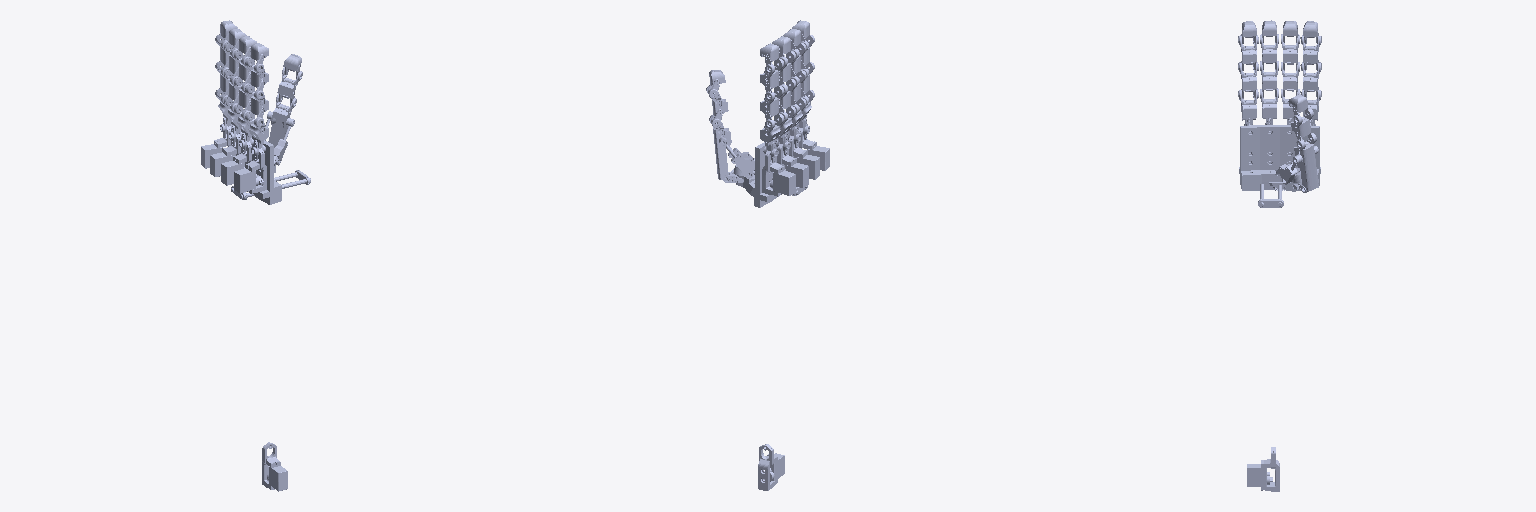
--- Facts derived from the render (not from the file) ---
The picture shows the robot from 3 angles, left to right: view 1: azimuth 30°, elevation 25°; view 2: azimuth 150°, elevation 25°; view 3: azimuth 270°, elevation 25°; orthographic projection.
Model roborscht_v3 with 22 links and 21 joints (21 revolute), rooted at base_link, posed every joint at zero.
Links seen in each view (by area): view 1: wrist_link, base_link, thumb_metacarpal_link, little_metacarpal_link; view 2: wrist_link, base_link, thumb_metacarpal_link, thumb_aa_link, index_metacarpal_link; view 3: wrist_link, thumb_metacarpal_link, base_link.
Boxes of the visible links, x1,y1,x2,y2 form: wrist_link: (201, 126, 310, 204); base_link: (262, 442, 287, 491); thumb_metacarpal_link: (265, 93, 296, 147); little_metacarpal_link: (245, 112, 268, 160); wrist_link: (729, 128, 829, 207); base_link: (758, 444, 784, 490); thumb_metacarpal_link: (709, 115, 736, 179); thumb_aa_link: (723, 148, 754, 182); index_metacarpal_link: (760, 113, 784, 162); wrist_link: (1239, 125, 1320, 207); thumb_metacarpal_link: (1291, 133, 1318, 191); base_link: (1247, 447, 1279, 491).
Bounding box of the posed robot: 0.1223 × 0.0937 × 0.5636 m (x, y, z).
22 mesh visuals loaded from 22 distinct referenced files (22 binary STL).

URDF robot description (roborscht_v3):
<?xml version="1.0" encoding="utf-8"?>
<!-- This URDF was automatically created by SolidWorks to URDF Exporter! Originally created by Stephen Brawner ([email redacted]) 
     Commit Version: 1.6.0-4-g7f85cfe  Build Version: 1.6.7995.38578
     For more information, please see http://wiki.ros.org/sw_urdf_exporter -->
<robot
  name="roborscht_v3">
  <link
    name="base_link">
    <inertial>
      <origin
        xyz="-0.0092098 -0.0024913 0.16567"
        rpy="0 0 0" />
      <mass
        value="1.6006" />
      <inertia
        ixx="0.0027075"
        ixy="-3.1202E-06"
        ixz="-1.8284E-05"
        iyy="0.0027143"
        iyz="-5.3343E-06"
        izz="0.0025317" />
    </inertial>
    <visual>
      <origin
        xyz="0 0 0"
        rpy="0 0 0" />
      <geometry>
        <mesh
          filename="package://roborscht_description/meshes/roborscht_v3/base_link.STL" />
      </geometry>
      <material
        name="">
        <color
          rgba="0.792156862745098 0.819607843137255 0.933333333333333 1" />
      </material>
    </visual>
    <collision>
      <origin
        xyz="0 0 0"
        rpy="0 0 0" />
      <geometry>
        <mesh
          filename="package://roborscht_description/meshes/roborscht_v3/base_link.STL" />
      </geometry>
    </collision>
  </link>
  <link
    name="wrist_link">
    <inertial>
      <origin
        xyz="-0.02602 0.00032153 0.022513"
        rpy="0 0 0" />
      <mass
        value="0.11966" />
      <inertia
        ixx="6.8158E-05"
        ixy="-2.3104E-06"
        ixz="2.8578E-06"
        iyy="3.4394E-05"
        iyz="1.7479E-06"
        izz="5.247E-05" />
    </inertial>
    <visual>
      <origin
        xyz="0 0 0"
        rpy="0 0 0" />
      <geometry>
        <mesh
          filename="package://roborscht_description/meshes/roborscht_v3/wrist_link.STL" />
      </geometry>
      <material
        name="">
        <color
          rgba="0.792156862745098 0.819607843137255 0.933333333333333 1" />
      </material>
    </visual>
    <collision>
      <origin
        xyz="0 0 0"
        rpy="0 0 0" />
      <geometry>
        <mesh
          filename="package://roborscht_description/meshes/roborscht_v3/wrist_link.STL" />
      </geometry>
    </collision>
  </link>
  <joint
    name="wrist_joint"
    type="revolute">
    <origin
      xyz="2.8857E-05 0 0.35884"
      rpy="0 0 1.4683E-05" />
    <parent
      link="base_link" />
    <child
      link="wrist_link" />
    <axis
      xyz="1 0 0" />
    <limit
      lower="-0.523"
      upper="0.523"
      effort="0"
      velocity="0" />
  </joint>
  <link
    name="thumb_aa_link">
    <inertial>
      <origin
        xyz="0.0024104 -2.5508E-09 0.01316"
        rpy="0 0 0" />
      <mass
        value="0.0089864" />
      <inertia
        ixx="3.115E-07"
        ixy="-1.6762E-13"
        ixz="9.1429E-08"
        iyy="5.1912E-07"
        iyz="2.4887E-14"
        izz="4.0938E-07" />
    </inertial>
    <visual>
      <origin
        xyz="0 0 0"
        rpy="0 0 0" />
      <geometry>
        <mesh
          filename="package://roborscht_description/meshes/roborscht_v3/thumb_aa_link.STL" />
      </geometry>
      <material
        name="">
        <color
          rgba="0.792156862745098 0.819607843137255 0.933333333333333 1" />
      </material>
    </visual>
    <collision>
      <origin
        xyz="0 0 0"
        rpy="0 0 0" />
      <geometry>
        <mesh
          filename="package://roborscht_description/meshes/roborscht_v3/thumb_aa_link.STL" />
      </geometry>
    </collision>
  </link>
  <joint
    name="thumb_aa_joint"
    type="revolute">
    <origin
      xyz="0.015116 0.023473 0.012303"
      rpy="-0.18412 0.02686 -2.4748" />
    <parent
      link="wrist_link" />
    <child
      link="thumb_aa_link" />
    <axis
      xyz="-0.15925 0 -0.98724" />
    <limit
      lower="-0.785"
      upper="0.785"
      effort="0"
      velocity="0" />
  </joint>
  <link
    name="thumb_metacarpal_link">
    <inertial>
      <origin
        xyz="-0.001809 -1.0753E-06 0.033444"
        rpy="0 0 0" />
      <mass
        value="0.012247" />
      <inertia
        ixx="2.8198E-06"
        ixy="-2.137E-11"
        ixz="-1.0994E-07"
        iyy="2.9298E-06"
        iyz="3.7583E-10"
        izz="2.3022E-07" />
    </inertial>
    <visual>
      <origin
        xyz="0 0 0"
        rpy="0 0 0" />
      <geometry>
        <mesh
          filename="package://roborscht_description/meshes/roborscht_v3/thumb_metacarpal_link.STL" />
      </geometry>
      <material
        name="">
        <color
          rgba="0.792156862745098 0.819607843137255 0.933333333333333 1" />
      </material>
    </visual>
    <collision>
      <origin
        xyz="0 0 0"
        rpy="0 0 0" />
      <geometry>
        <mesh
          filename="package://roborscht_description/meshes/roborscht_v3/thumb_metacarpal_link.STL" />
      </geometry>
    </collision>
  </link>
  <joint
    name="thumb_metacarpal_joint"
    type="revolute">
    <origin
      xyz="-0.0162894409397336 0 0.00262756805263537"
      rpy="0 -0.0973913085731766 0" />
    <parent
      link="thumb_aa_link" />
    <child
      link="thumb_metacarpal_link" />
    <axis
      xyz="0 -1 0" />
    <limit
      lower="0"
      upper="0.5236"
      effort="0"
      velocity="0" />
  </joint>
  <link
    name="thumb_proximal_link">
    <inertial>
      <origin
        xyz="0.0027688 6.5584E-06 0.018506"
        rpy="0 0 0" />
      <mass
        value="0.0045745" />
      <inertia
        ixx="1.2754E-07"
        ixy="-3.4528E-11"
        ixz="6.7634E-09"
        iyy="1.8349E-07"
        iyz="2.3861E-10"
        izz="9.0084E-08" />
    </inertial>
    <visual>
      <origin
        xyz="0 0 0"
        rpy="0 0 0" />
      <geometry>
        <mesh
          filename="package://roborscht_description/meshes/roborscht_v3/thumb_proximal_link.STL" />
      </geometry>
      <material
        name="">
        <color
          rgba="0.792156862745098 0.819607843137255 0.933333333333333 1" />
      </material>
    </visual>
    <collision>
      <origin
        xyz="0 0 0"
        rpy="0 0 0" />
      <geometry>
        <mesh
          filename="package://roborscht_description/meshes/roborscht_v3/thumb_proximal_link.STL" />
      </geometry>
    </collision>
  </link>
  <joint
    name="thumb_proximal_joint"
    type="revolute">
    <origin
      xyz="-0.005234 0 0.064786"
      rpy="0 0.097391 0" />
    <parent
      link="thumb_metacarpal_link" />
    <child
      link="thumb_proximal_link" />
    <axis
      xyz="0 -1 0" />
    <limit
      lower="0"
      upper="0.5236"
      effort="0"
      velocity="0" />
    <mimic
      joint="thumb_metacarpal_joint"
      multiplier="1"
      offset="0" />
  </joint>
  <link
    name="thumb_distal_link">
    <inertial>
      <origin
        xyz="0.00526492292422796 -0.000119362522957578 0.0141234180647685"
        rpy="0 0 0" />
      <mass
        value="0.00324557150318146" />
      <inertia
        ixx="7.00047560328177E-08"
        ixy="7.7403312388684E-10"
        ixz="-7.47829519105683E-09"
        iyy="1.10270578363082E-07"
        iyz="-3.87024849478456E-10"
        izz="6.62418155445074E-08" />
    </inertial>
    <visual>
      <origin
        xyz="0 0 0"
        rpy="0 0 0" />
      <geometry>
        <mesh
          filename="package://roborscht_description/meshes/roborscht_v3/thumb_distal_link.STL" />
      </geometry>
      <material
        name="">
        <color
          rgba="0.792156862745098 0.819607843137255 0.933333333333333 1" />
      </material>
    </visual>
    <collision>
      <origin
        xyz="0 0 0"
        rpy="0 0 0" />
      <geometry>
        <mesh
          filename="package://roborscht_description/meshes/roborscht_v3/thumb_distal_link.STL" />
      </geometry>
    </collision>
  </link>
  <joint
    name="thumb_distal_joint"
    type="revolute">
    <origin
      xyz="-0.00330333800875904 0 0.0338108946215734"
      rpy="0 -0.097391308573176 0" />
    <parent
      link="thumb_proximal_link" />
    <child
      link="thumb_distal_link" />
    <axis
      xyz="0 -1 0" />
    <limit
      lower="0"
      upper="0.5236"
      effort="0"
      velocity="0" />
    <mimic
      joint="thumb_proximal_joint"
      multiplier="1"
      offset="0" />
  </joint>
  <link
    name="index_metacarpal_link">
    <inertial>
      <origin
        xyz="-0.000165088380344569 -2.55527997797267E-06 0.0200961413845328"
        rpy="0 0 0" />
      <mass
        value="0.00537510190726737" />
      <inertia
        ixx="2.05816406436137E-07"
        ixy="-2.35473640198192E-11"
        ixz="2.20514713115928E-08"
        iyy="2.53059740283561E-07"
        iyz="1.87669861493622E-10"
        izz="1.08190461856831E-07" />
    </inertial>
    <visual>
      <origin
        xyz="0 0 0"
        rpy="0 0 0" />
      <geometry>
        <mesh
          filename="package://roborscht_description/meshes/roborscht_v3/index_metacarpal_link.STL" />
      </geometry>
      <material
        name="">
        <color
          rgba="0.792156862745098 0.819607843137255 0.933333333333333 1" />
      </material>
    </visual>
    <collision>
      <origin
        xyz="0 0 0"
        rpy="0 0 0" />
      <geometry>
        <mesh
          filename="package://roborscht_description/meshes/roborscht_v3/index_metacarpal_link.STL" />
      </geometry>
    </collision>
  </link>
  <joint
    name="index_metacarpal_joint"
    type="revolute">
    <origin
      xyz="-0.0304679964628173 0.0346470579448334 0.0605435263258592"
      rpy="0 0 -0.130899693900408" />
    <parent
      link="wrist_link" />
    <child
      link="index_metacarpal_link" />
    <axis
      xyz="1 0 0" />
    <limit
      lower="-0.262"
      upper="0.262"
      effort="0"
      velocity="0" />
  </joint>
  <link
    name="index_proximal_link">
    <inertial>
      <origin
        xyz="0.00455519894544859 6.55879239436219E-06 0.0181492193632317"
        rpy="0 0 0" />
      <mass
        value="0.00457448161152818" />
      <inertia
        ixx="1.28490373622756E-07"
        ixy="-1.11577307710177E-11"
        ixz="3.01110888332889E-09"
        iyy="1.83487393021689E-07"
        iyz="2.40841956953645E-10"
        izz="8.91294617769703E-08" />
    </inertial>
    <visual>
      <origin
        xyz="0 0 0"
        rpy="0 0 0" />
      <geometry>
        <mesh
          filename="package://roborscht_description/meshes/roborscht_v3/index_proximal_link.STL" />
      </geometry>
      <material
        name="">
        <color
          rgba="0.792156862745098 0.819607843137255 0.933333333333333 1" />
      </material>
    </visual>
    <collision>
      <origin
        xyz="0 0 0"
        rpy="0 0 0" />
      <geometry>
        <mesh
          filename="package://roborscht_description/meshes/roborscht_v3/index_proximal_link.STL" />
      </geometry>
    </collision>
  </link>
  <joint
    name="index_proximal_joint"
    type="revolute">
    <origin
      xyz="-0.00523404007282113 0 0.0387859400469229"
      rpy="0 0 0" />
    <parent
      link="index_metacarpal_link" />
    <child
      link="index_proximal_link" />
    <axis
      xyz="0 -1 0" />
    <limit
      lower="0"
      upper="0.5236"
      effort="0"
      velocity="0" />
  </joint>
  <link
    name="index_middle_link">
    <inertial>
      <origin
        xyz="0.00447480519242222 6.83998454037438E-06 0.0177672192872552"
        rpy="0 0 0" />
      <mass
        value="0.00438641334589753" />
      <inertia
        ixx="1.17446272298938E-07"
        ixy="-1.1104618693292E-11"
        ixz="3.01216827334828E-09"
        iyy="1.69859418492487E-07"
        iyz="2.30779224024243E-10"
        izz="8.46514881086031E-08" />
    </inertial>
    <visual>
      <origin
        xyz="0 0 0"
        rpy="0 0 0" />
      <geometry>
        <mesh
          filename="package://roborscht_description/meshes/roborscht_v3/index_middle_link.STL" />
      </geometry>
      <material
        name="">
        <color
          rgba="0.792156862745098 0.819607843137255 0.933333333333333 1" />
      </material>
    </visual>
    <collision>
      <origin
        xyz="0 0 0"
        rpy="0 0 0" />
      <geometry>
        <mesh
          filename="package://roborscht_description/meshes/roborscht_v3/index_middle_link.STL" />
      </geometry>
    </collision>
  </link>
  <joint
    name="index_middle_joint"
    type="revolute">
    <origin
      xyz="0 0 0.033971880093858"
      rpy="0 0 0" />
    <parent
      link="index_proximal_link" />
    <child
      link="index_middle_link" />
    <axis
      xyz="0 -1 0" />
    <limit
      lower="0"
      upper="0.5236"
      effort="0"
      velocity="0" />
    <mimic
      joint="index_proximal_joint"
      multiplier="1"
      offset="0" />
  </joint>
  <link
    name="index_distal_link">
    <inertial>
      <origin
        xyz="0.00526492031061587 -0.000119344644562841 0.0141234392377447"
        rpy="0 0 0" />
      <mass
        value="0.0032455838904159" />
      <inertia
        ixx="7.00048998621902E-08"
        ixy="7.73937651799553E-10"
        ixz="-7.47834387903453E-09"
        iyy="1.10271038022727E-07"
        iyz="-3.8722107279635E-10"
        izz="6.62418990427694E-08" />
    </inertial>
    <visual>
      <origin
        xyz="0 0 0"
        rpy="0 0 0" />
      <geometry>
        <mesh
          filename="package://roborscht_description/meshes/roborscht_v3/index_distal_link.STL" />
      </geometry>
      <material
        name="">
        <color
          rgba="0.792156862745098 0.819607843137255 0.933333333333333 1" />
      </material>
    </visual>
    <collision>
      <origin
        xyz="0 0 0"
        rpy="0 0 0" />
      <geometry>
        <mesh
          filename="package://roborscht_description/meshes/roborscht_v3/index_distal_link.STL" />
      </geometry>
    </collision>
  </link>
  <joint
    name="index_distal_joint"
    type="revolute">
    <origin
      xyz="0 0 0.033171880093858"
      rpy="0 0 0" />
    <parent
      link="index_middle_link" />
    <child
      link="index_distal_link" />
    <axis
      xyz="0 -1 0" />
    <limit
      lower="0"
      upper="0.5236"
      effort="0"
      velocity="0" />
    <mimic
      joint="index_middle_joint"
      multiplier="1"
      offset="0" />
  </joint>
  <link
    name="middle_metacarpal_link">
    <inertial>
      <origin
        xyz="-0.000165088372523825 -2.55565458567864E-06 0.0200961415933178"
        rpy="0 0 0" />
      <mass
        value="0.00537510153137124" />
      <inertia
        ixx="2.05816382294143E-07"
        ixy="-2.3550165673685E-11"
        ixz="2.20514736537064E-08"
        iyy="2.53059723503824E-07"
        iyz="1.87659896911979E-10"
        izz="1.08190454856687E-07" />
    </inertial>
    <visual>
      <origin
        xyz="0 0 0"
        rpy="0 0 0" />
      <geometry>
        <mesh
          filename="package://roborscht_description/meshes/roborscht_v3/middle_metacarpal_link.STL" />
      </geometry>
      <material
        name="">
        <color
          rgba="0.792156862745098 0.819607843137255 0.933333333333333 1" />
      </material>
    </visual>
    <collision>
      <origin
        xyz="0 0 0"
        rpy="0 0 0" />
      <geometry>
        <mesh
          filename="package://roborscht_description/meshes/roborscht_v3/middle_metacarpal_link.STL" />
      </geometry>
    </collision>
  </link>
  <joint
    name="middle_metacarpal_joint"
    type="revolute">
    <origin
      xyz="-0.032509 0.011579 0.060544"
      rpy="0 0 -0.043633" />
    <parent
      link="wrist_link" />
    <child
      link="middle_metacarpal_link" />
    <axis
      xyz="1 0 0" />
    <limit
      lower="-0.262"
      upper="0.262"
      effort="0"
      velocity="0" />
  </joint>
  <link
    name="middle_proximal_link">
    <inertial>
      <origin
        xyz="0.00447480520412025 6.83986571578532E-06 0.0177672190634332"
        rpy="0 0 0" />
      <mass
        value="0.00438641328635533" />
      <inertia
        ixx="1.17446270009606E-07"
        ixy="-1.11046986697657E-11"
        ixz="3.01216822075235E-09"
        iyy="1.69859417117798E-07"
        iyz="2.30779334207363E-10"
        izz="8.46514887225521E-08" />
    </inertial>
    <visual>
      <origin
        xyz="0 0 0"
        rpy="0 0 0" />
      <geometry>
        <mesh
          filename="package://roborscht_description/meshes/roborscht_v3/middle_proximal_link.STL" />
      </geometry>
      <material
        name="">
        <color
          rgba="0.792156862745098 0.819607843137255 0.933333333333333 1" />
      </material>
    </visual>
    <collision>
      <origin
        xyz="0 0 0"
        rpy="0 0 0" />
      <geometry>
        <mesh
          filename="package://roborscht_description/meshes/roborscht_v3/middle_proximal_link.STL" />
      </geometry>
    </collision>
  </link>
  <joint
    name="middle_proximal_joint"
    type="revolute">
    <origin
      xyz="-0.00523404007281919 0 0.0387859400469245"
      rpy="0 0 0" />
    <parent
      link="middle_metacarpal_link" />
    <child
      link="middle_proximal_link" />
    <axis
      xyz="0 -1 0" />
    <limit
      lower="0"
      upper="0.5236"
      effort="0"
      velocity="0" />
    <mimic
      joint="middle_proximal_joint"
      multiplier="1"
      offset="0" />
  </joint>
  <link
    name="middlle_middle_link">
    <inertial>
      <origin
        xyz="0.00455519895646639 6.55867831800272E-06 0.0181492191437201"
        rpy="0 0 0" />
      <mass
        value="0.0045744815514028" />
      <inertia
        ixx="1.28490371316337E-07"
        ixy="-1.11578149843668E-11"
        ixz="3.01110883022365E-09"
        iyy="1.8348739169989E-07"
        iyz="2.40842060757707E-10"
        izz="8.91294624261501E-08" />
    </inertial>
    <visual>
      <origin
        xyz="0 0 0"
        rpy="0 0 0" />
      <geometry>
        <mesh
          filename="package://roborscht_description/meshes/roborscht_v3/middlle_middle_link.STL" />
      </geometry>
      <material
        name="">
        <color
          rgba="0.792156862745098 0.819607843137255 0.933333333333333 1" />
      </material>
    </visual>
    <collision>
      <origin
        xyz="0 0 0"
        rpy="0 0 0" />
      <geometry>
        <mesh
          filename="package://roborscht_description/meshes/roborscht_v3/middlle_middle_link.STL" />
      </geometry>
    </collision>
  </link>
  <joint
    name="middle_middle_joint"
    type="revolute">
    <origin
      xyz="0 0 0.0331718800938623"
      rpy="0 0 0" />
    <parent
      link="middle_proximal_link" />
    <child
      link="middlle_middle_link" />
    <axis
      xyz="0 -1 0" />
    <limit
      lower="0"
      upper="0.5236"
      effort="0"
      velocity="0" />
    <mimic
      joint="middle_proximal_joint"
      multiplier="1"
      offset="0" />
  </joint>
  <link
    name="middle_distal_link">
    <inertial>
      <origin
        xyz="0.0052649 -0.00011934 0.014123"
        rpy="0 0 0" />
      <mass
        value="0.0032456" />
      <inertia
        ixx="7.0005E-08"
        ixy="7.7394E-10"
        ixz="-7.4783E-09"
        iyy="1.1027E-07"
        iyz="-3.8722E-10"
        izz="6.6242E-08" />
    </inertial>
    <visual>
      <origin
        xyz="0 0 0"
        rpy="0 0 0" />
      <geometry>
        <mesh
          filename="package://roborscht_description/meshes/roborscht_v3/middle_distal_link.STL" />
      </geometry>
      <material
        name="">
        <color
          rgba="0.792156862745098 0.819607843137255 0.933333333333333 1" />
      </material>
    </visual>
    <collision>
      <origin
        xyz="0 0 0"
        rpy="0 0 0" />
      <geometry>
        <mesh
          filename="package://roborscht_description/meshes/roborscht_v3/middle_distal_link.STL" />
      </geometry>
    </collision>
  </link>
  <joint
    name="middle_distal_joint"
    type="revolute">
    <origin
      xyz="0 0 0.0339718800938537"
      rpy="0 0 0" />
    <parent
      link="middlle_middle_link" />
    <child
      link="middle_distal_link" />
    <axis
      xyz="0 -1 0" />
    <limit
      lower="0"
      upper="0.5236"
      effort="0"
      velocity="0" />
    <mimic
      joint="middle_middle_joint"
      multiplier="1"
      offset="0" />
  </joint>
  <link
    name="ring_metacarpal_link">
    <inertial>
      <origin
        xyz="-0.000165088350823628 -2.55563806128567E-06 0.020096141084491"
        rpy="0 0 0" />
      <mass
        value="0.0053751014229565" />
      <inertia
        ixx="2.05816376852638E-07"
        ixy="-2.35503525582634E-11"
        ixz="2.20514724507881E-08"
        iyy="2.53059719418795E-07"
        iyz="1.87659913170767E-10"
        izz="1.08190455906327E-07" />
    </inertial>
    <visual>
      <origin
        xyz="0 0 0"
        rpy="0 0 0" />
      <geometry>
        <mesh
          filename="package://roborscht_description/meshes/roborscht_v3/ring_metacarpal_link.STL" />
      </geometry>
      <material
        name="">
        <color
          rgba="0.792156862745098 0.819607843137255 0.933333333333333 1" />
      </material>
    </visual>
    <collision>
      <origin
        xyz="0 0 0"
        rpy="0 0 0" />
      <geometry>
        <mesh
          filename="package://roborscht_description/meshes/roborscht_v3/ring_metacarpal_link.STL" />
      </geometry>
    </collision>
  </link>
  <joint
    name="ring_metacarpal_joint"
    type="revolute">
    <origin
      xyz="-0.0325787147761209 -0.0115824295630381 0.0605435263258596"
      rpy="0 0 0.043633231299017" />
    <parent
      link="wrist_link" />
    <child
      link="ring_metacarpal_link" />
    <axis
      xyz="1 0 0" />
    <limit
      lower="-0.262"
      upper="0.262"
      effort="0"
      velocity="0" />
  </joint>
  <link
    name="ring_proximal_link">
    <inertial>
      <origin
        xyz="0.0045551990197843 6.55867956680933E-06 0.0181492186738775"
        rpy="0 0 0" />
      <mass
        value="0.00457448142996302" />
      <inertia
        ixx="1.28490366113308E-07"
        ixy="-1.11578794051168E-11"
        ixz="3.01110803476694E-09"
        iyy="1.83487387692616E-07"
        iyz="2.40841983306076E-10"
        izz="8.91294632237251E-08" />
    </inertial>
    <visual>
      <origin
        xyz="0 0 0"
        rpy="0 0 0" />
      <geometry>
        <mesh
          filename="package://roborscht_description/meshes/roborscht_v3/ring_proximal_link.STL" />
      </geometry>
      <material
        name="">
        <color
          rgba="0.792156862745098 0.819607843137255 0.933333333333333 1" />
      </material>
    </visual>
    <collision>
      <origin
        xyz="0 0 0"
        rpy="0 0 0" />
      <geometry>
        <mesh
          filename="package://roborscht_description/meshes/roborscht_v3/ring_proximal_link.STL" />
      </geometry>
    </collision>
  </link>
  <joint
    name="ring_proximal_joint"
    type="revolute">
    <origin
      xyz="-0.00523404007281736 0 0.0387859400469264"
      rpy="0 0 0" />
    <parent
      link="ring_metacarpal_link" />
    <child
      link="ring_proximal_link" />
    <axis
      xyz="0 -1 0" />
    <limit
      lower="0"
      upper="0.5236"
      effort="0"
      velocity="0" />
  </joint>
  <link
    name="ring_middle_link">
    <inertial>
      <origin
        xyz="0.0044748 6.8399E-06 0.017767"
        rpy="0 0 0" />
      <mass
        value="0.0043864" />
      <inertia
        ixx="1.1745E-07"
        ixy="-1.1105E-11"
        ixz="3.0122E-09"
        iyy="1.6986E-07"
        iyz="2.3078E-10"
        izz="8.4651E-08" />
    </inertial>
    <visual>
      <origin
        xyz="0 0 0"
        rpy="0 0 0" />
      <geometry>
        <mesh
          filename="package://roborscht_description/meshes/roborscht_v3/ring_middle_link.STL" />
      </geometry>
      <material
        name="">
        <color
          rgba="0.792156862745098 0.819607843137255 0.933333333333333 1" />
      </material>
    </visual>
    <collision>
      <origin
        xyz="0 0 0"
        rpy="0 0 0" />
      <geometry>
        <mesh
          filename="package://roborscht_description/meshes/roborscht_v3/ring_middle_link.STL" />
      </geometry>
    </collision>
  </link>
  <joint
    name="ring_middle_joint"
    type="revolute">
    <origin
      xyz="0 0 0.033971880093858"
      rpy="0 0 0" />
    <parent
      link="ring_proximal_link" />
    <child
      link="ring_middle_link" />
    <axis
      xyz="0 -1 0" />
    <limit
      lower="0"
      upper="0.5236"
      effort="0"
      velocity="0" />
    <mimic
      joint="ring_proximal_joint"
      multiplier="1"
      offset="0" />
  </joint>
  <link
    name="ring_distal_link">
    <inertial>
      <origin
        xyz="0.00526492001440815 -0.000119345254750103 0.0141234395702741"
        rpy="0 0 0" />
      <mass
        value="0.00324558424388224" />
      <inertia
        ixx="7.00048993538569E-08"
        ixy="7.73935080437195E-10"
        ixz="-7.47833374189372E-09"
        iyy="1.10271043755537E-07"
        iyz="-3.87216056863126E-10"
        izz="6.62419031245605E-08" />
    </inertial>
    <visual>
      <origin
        xyz="0 0 0"
        rpy="0 0 0" />
      <geometry>
        <mesh
          filename="package://roborscht_description/meshes/roborscht_v3/ring_distal_link.STL" />
      </geometry>
      <material
        name="">
        <color
          rgba="0.792156862745098 0.819607843137255 0.933333333333333 1" />
      </material>
    </visual>
    <collision>
      <origin
        xyz="0 0 0"
        rpy="0 0 0" />
      <geometry>
        <mesh
          filename="package://roborscht_description/meshes/roborscht_v3/ring_distal_link.STL" />
      </geometry>
    </collision>
  </link>
  <joint
    name="ring_distal_joint"
    type="revolute">
    <origin
      xyz="0 0 0.0331718800938578"
      rpy="0 0 0" />
    <parent
      link="ring_middle_link" />
    <child
      link="ring_distal_link" />
    <axis
      xyz="0 -1 0" />
    <limit
      lower="0"
      upper="0.5236"
      effort="0"
      velocity="0" />
    <mimic
      joint="ring_middle_joint"
      multiplier="1"
      offset="0" />
  </joint>
  <link
    name="little_metacarpal_link">
    <inertial>
      <origin
        xyz="-0.000165088280446479 -2.55569257920363E-06 0.0200961407733435"
        rpy="0 0 0" />
      <mass
        value="0.00537510114650344" />
      <inertia
        ixx="2.05816361551019E-07"
        ixy="-2.3551546630661E-11"
        ixz="2.20514733007704E-08"
        iyy="2.53059707033402E-07"
        iyz="1.87655942478889E-10"
        izz="1.08190454738954E-07" />
    </inertial>
    <visual>
      <origin
        xyz="0 0 0"
        rpy="0 0 0" />
      <geometry>
        <mesh
          filename="package://roborscht_description/meshes/roborscht_v3/little_metacarpal_link.STL" />
      </geometry>
      <material
        name="">
        <color
          rgba="0.792156862745098 0.819607843137255 0.933333333333333 1" />
      </material>
    </visual>
    <collision>
      <origin
        xyz="0 0 0"
        rpy="0 0 0" />
      <geometry>
        <mesh
          filename="package://roborscht_description/meshes/roborscht_v3/little_metacarpal_link.STL" />
      </geometry>
    </collision>
  </link>
  <joint
    name="little_metacarpal_joint"
    type="revolute">
    <origin
      xyz="-0.0305597642733709 -0.0346591394063831 0.0605435263258598"
      rpy="0 0 0.130899693898723" />
    <parent
      link="wrist_link" />
    <child
      link="little_metacarpal_link" />
    <axis
      xyz="0.996194698091819 -0.0871557427468129 0" />
    <limit
      lower="-0.262"
      upper="0.262"
      effort="0"
      velocity="0" />
  </joint>
  <link
    name="little_proximal_link">
    <inertial>
      <origin
        xyz="0.00455519902436058 6.55869817031696E-06 0.0181492181440682"
        rpy="0 0 0" />
      <mass
        value="0.00457448129060241" />
      <inertia
        ixx="1.28490360246208E-07"
        ixy="-1.11581507541927E-11"
        ixz="3.01110704981706E-09"
        iyy="1.83487385303187E-07"
        iyz="2.40841550907173E-10"
        izz="8.91294660738731E-08" />
    </inertial>
    <visual>
      <origin
        xyz="0 0 0"
        rpy="0 0 0" />
      <geometry>
        <mesh
          filename="package://roborscht_description/meshes/roborscht_v3/little_proximal_link.STL" />
      </geometry>
      <material
        name="">
        <color
          rgba="0.792156862745098 0.819607843137255 0.933333333333333 1" />
      </material>
    </visual>
    <collision>
      <origin
        xyz="0 0 0"
        rpy="0 0 0" />
      <geometry>
        <mesh
          filename="package://roborscht_description/meshes/roborscht_v3/little_proximal_link.STL" />
      </geometry>
    </collision>
  </link>
  <joint
    name="little_proximal_joint"
    type="revolute">
    <origin
      xyz="-0.00523404007281553 0 0.0387859400469276"
      rpy="0 0 0" />
    <parent
      link="little_metacarpal_link" />
    <child
      link="little_proximal_link" />
    <axis
      xyz="0 -1 0" />
    <limit
      lower="0"
      upper="0.5236"
      effort="0"
      velocity="0" />
  </joint>
  <link
    name="little_middle_link">
    <inertial>
      <origin
        xyz="0.00447480527727334 6.83988648472744E-06 0.0177672180438335"
        rpy="0 0 0" />
      <mass
        value="0.00438641302771596" />
      <inertia
        ixx="1.17446258991272E-07"
        ixy="-1.11050330100548E-11"
        ixz="3.01216644824008E-09"
        iyy="1.69859410427898E-07"
        iyz="2.30778855431895E-10"
        izz="8.46514921476099E-08" />
    </inertial>
    <visual>
      <origin
        xyz="0 0 0"
        rpy="0 0 0" />
      <geometry>
        <mesh
          filename="package://roborscht_description/meshes/roborscht_v3/little_middle_link.STL" />
      </geometry>
      <material
        name="">
        <color
          rgba="0.792156862745098 0.819607843137255 0.933333333333333 1" />
      </material>
    </visual>
    <collision>
      <origin
        xyz="0 0 0"
        rpy="0 0 0" />
      <geometry>
        <mesh
          filename="package://roborscht_description/meshes/roborscht_v3/little_middle_link.STL" />
      </geometry>
    </collision>
  </link>
  <joint
    name="little_middle_joint"
    type="revolute">
    <origin
      xyz="0 0 0.033971880093858"
      rpy="0 0 0" />
    <parent
      link="little_proximal_link" />
    <child
      link="little_middle_link" />
    <axis
      xyz="0 -1 0" />
    <limit
      lower="0"
      upper="0.5236"
      effort="0"
      velocity="0" />
    <mimic
      joint="little_proximal_joint"
      multiplier="1"
      offset="0" />
  </joint>
  <link
    name="little_distal_link">
    <inertial>
      <origin
        xyz="0.00526491952972419 -0.000119346244189744 0.0141234406133914"
        rpy="0 0 0" />
      <mass
        value="0.00324558468478879" />
      <inertia
        ixx="7.00049042543188E-08"
        ixy="7.73930539929649E-10"
        ixz="-7.47832162280407E-09"
        iyy="1.1027105971372E-07"
        iyz="-3.87206916195198E-10"
        izz="6.62419043154477E-08" />
    </inertial>
    <visual>
      <origin
        xyz="0 0 0"
        rpy="0 0 0" />
      <geometry>
        <mesh
          filename="package://roborscht_description/meshes/roborscht_v3/little_distal_link.STL" />
      </geometry>
      <material
        name="">
        <color
          rgba="0.792156862745098 0.819607843137255 0.933333333333333 1" />
      </material>
    </visual>
    <collision>
      <origin
        xyz="0 0 0"
        rpy="0 0 0" />
      <geometry>
        <mesh
          filename="package://roborscht_description/meshes/roborscht_v3/little_distal_link.STL" />
      </geometry>
    </collision>
  </link>
  <joint
    name="little_distal_joint"
    type="revolute">
    <origin
      xyz="0 0 0.0331718800938581"
      rpy="0 0 0" />
    <parent
      link="little_middle_link" />
    <child
      link="little_distal_link" />
    <axis
      xyz="0 -1 0" />
    <limit
      lower="0"
      upper="0.5236"
      effort="0"
      velocity="0" />
    <mimic
      joint="little_middle_joint"
      multiplier="1"
      offset="0" />
  </joint>
</robot>
